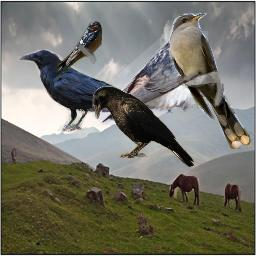Crow: (18, 49, 153, 134), (93, 86, 195, 167)
Cuckoo: (169, 13, 251, 149)
Swallow: (92, 31, 208, 125), (54, 21, 102, 83)
